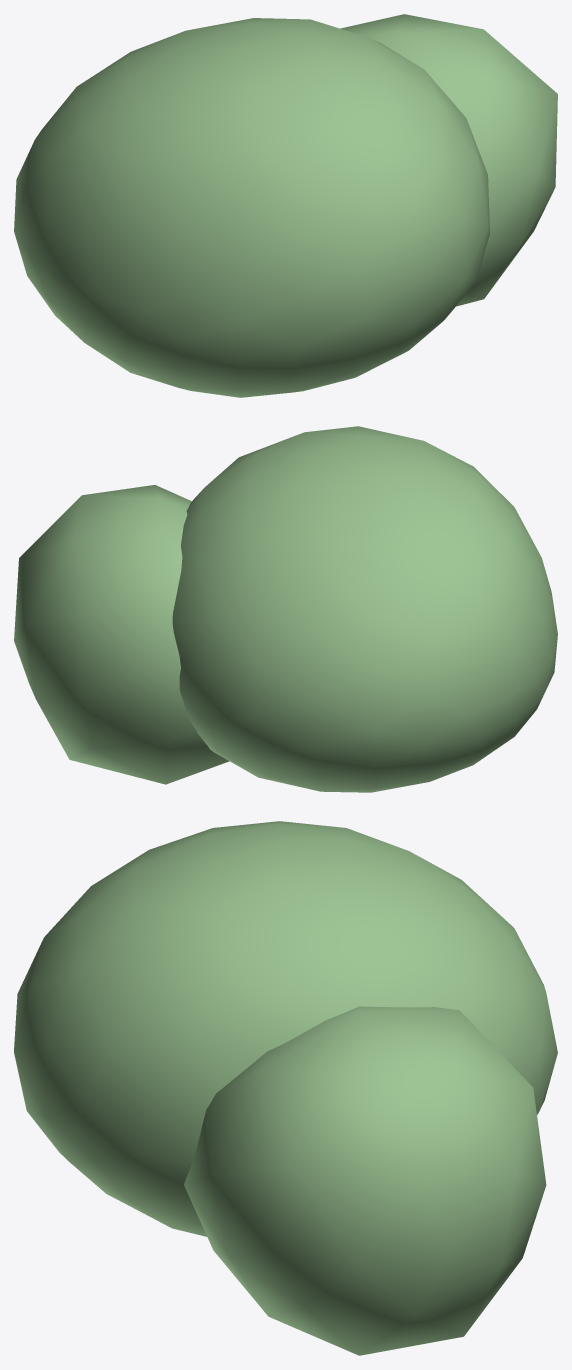
File: shrub-b.glb
The picture shows the model from 3 angles, top to bottom: view 1: azimuth 30°, elevation 25°; view 2: azimuth 150°, elevation 25°; view 3: azimuth 270°, elevation 25°; orthographic projection. The views are drawn at different scales.
Parts seen in each view (by area): view 1: shrub-b; view 2: shrub-b; view 3: shrub-b.
Boxes of the visible parts, x1=… form: shrub-b: x1=14, y1=14, x2=557, y2=397; shrub-b: x1=14, y1=426, x2=557, y2=792; shrub-b: x1=14, y1=821, x2=557, y2=1355.
Bounding box in the file's own units: 1.57 × 1 × 1.27.
